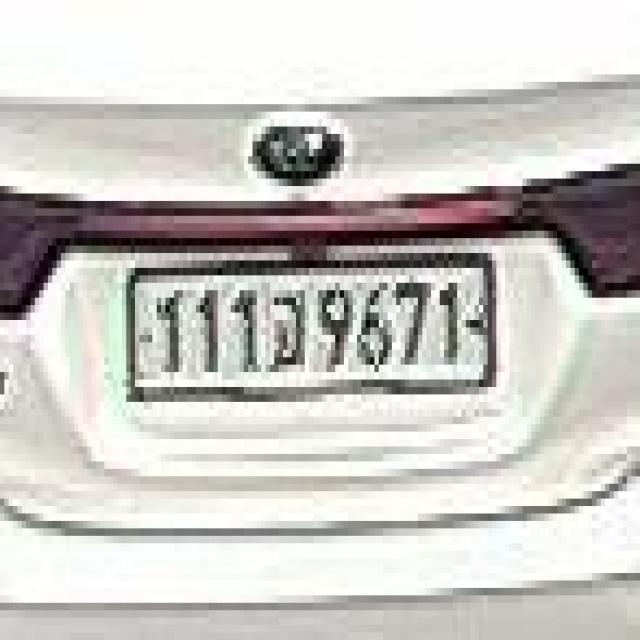illegal_plate: (121, 253, 500, 411)
